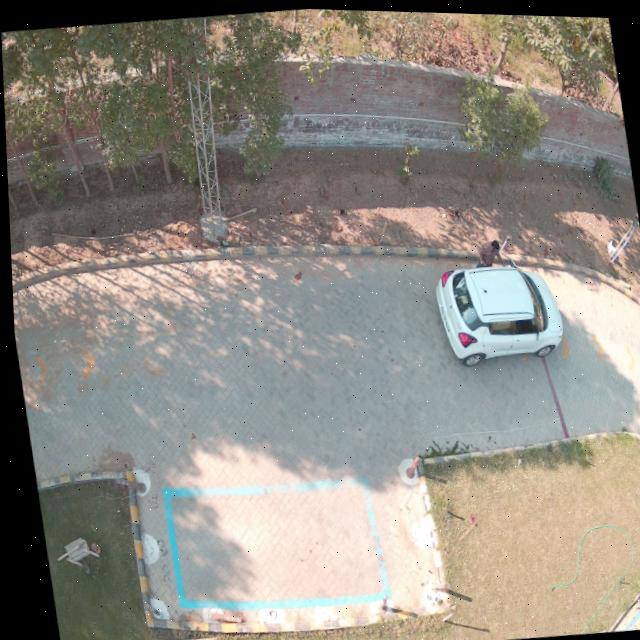car: (432, 261, 560, 362)
